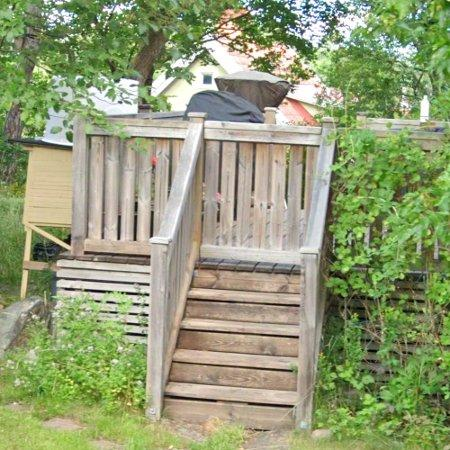stairs: (165, 266, 301, 430)
